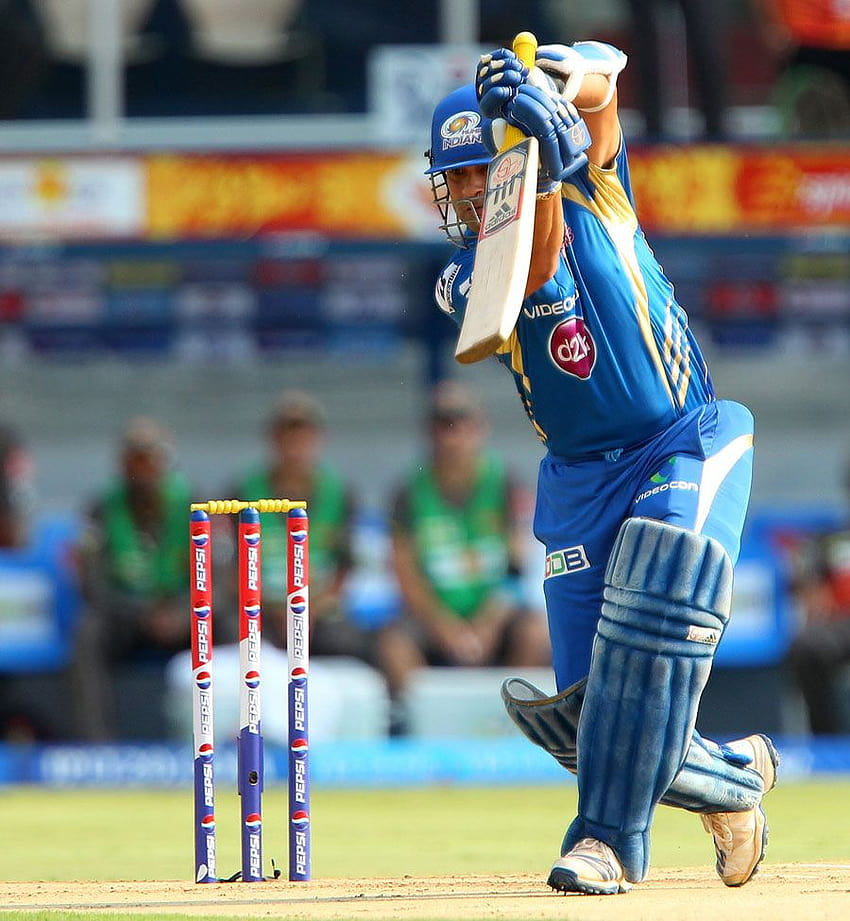Defence: (73, 5, 786, 920)
